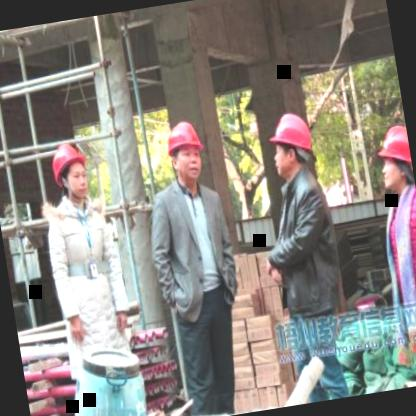helmet: (262, 106, 318, 188), (160, 114, 212, 189), (369, 119, 416, 196), (48, 138, 96, 205)
